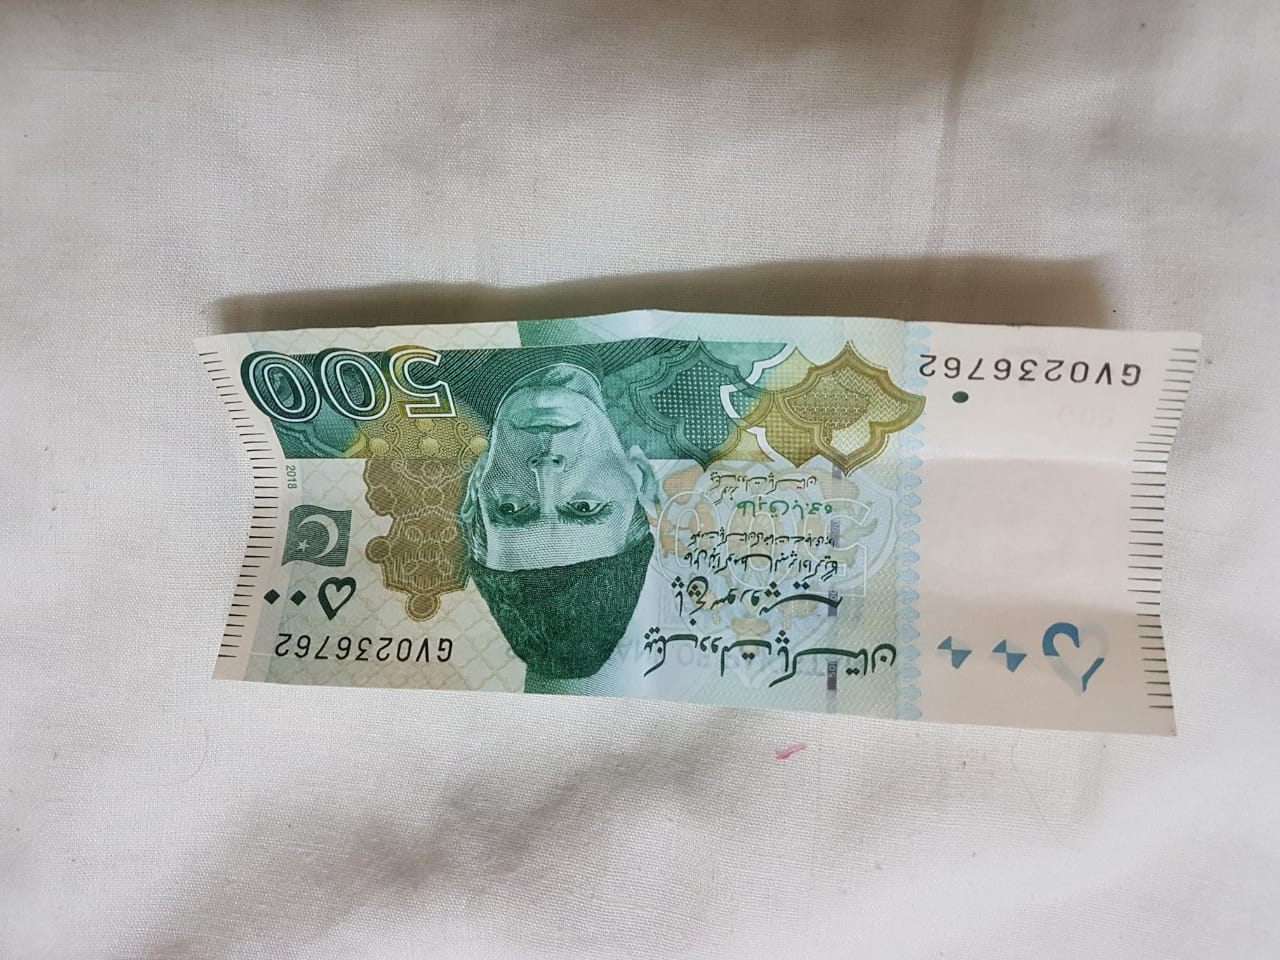500 rupee: (172, 280, 1204, 764)
